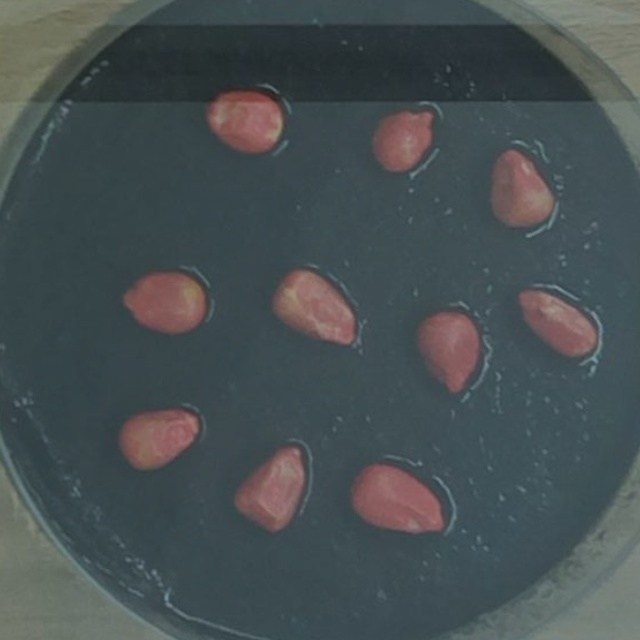Zea mays: (340, 456, 449, 541), (263, 262, 362, 354), (226, 438, 310, 539), (509, 279, 602, 364), (409, 302, 488, 400), (114, 264, 211, 340), (482, 143, 561, 236), (110, 401, 206, 477), (197, 82, 288, 160), (361, 102, 438, 181)
